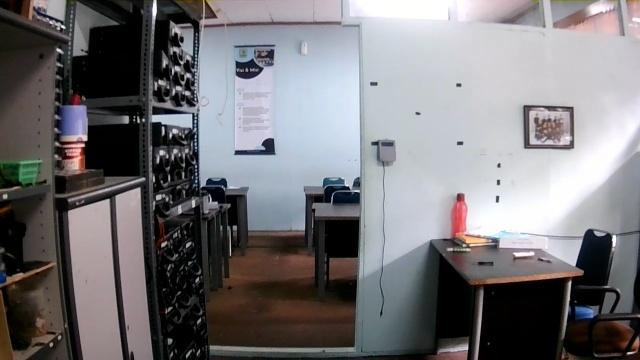Lemari: (56, 175, 158, 359)
Meja: (426, 235, 583, 359)
